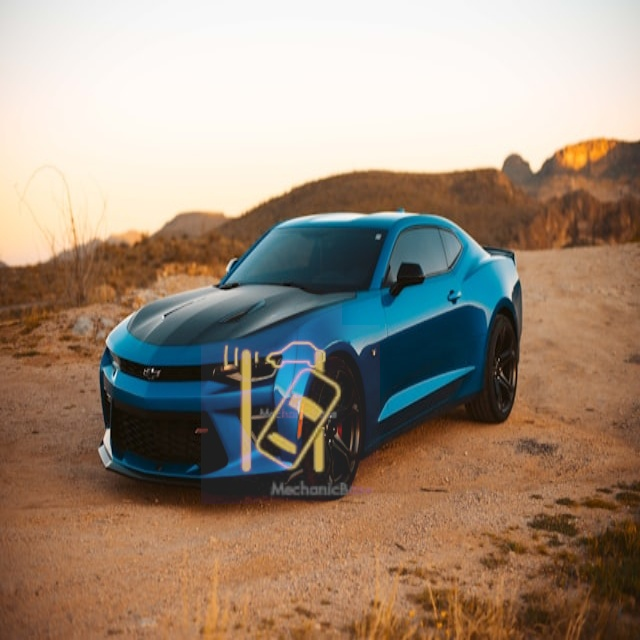symbol: (201, 325, 380, 504), (206, 289, 342, 425)
